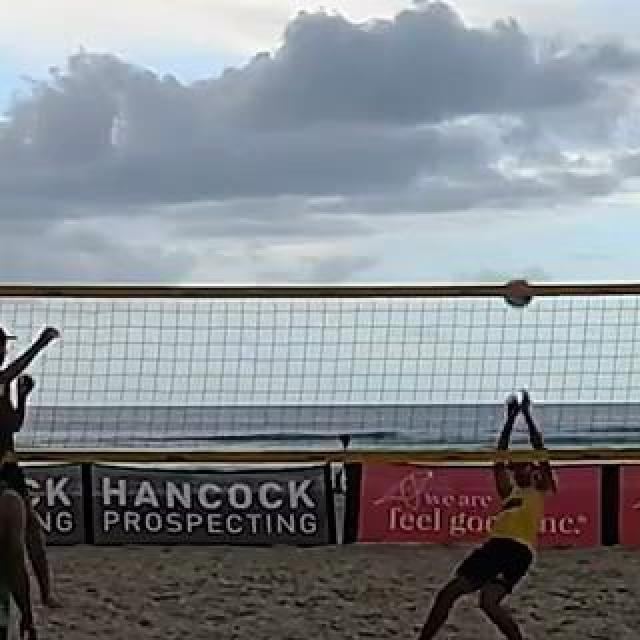volleyball: (504, 278, 534, 308)
